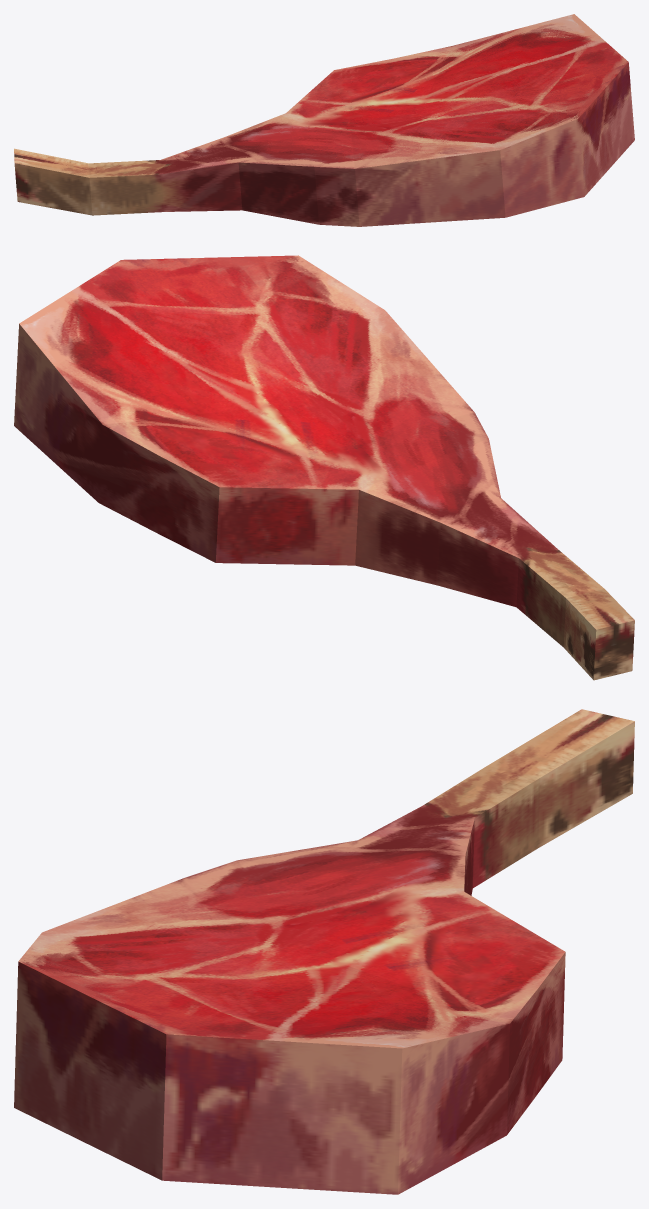
File: 03_meat_piece_02.obj
3 views of the same model, one above another, from view 1: azimuth 30°, elevation 25°; view 2: azimuth 150°, elevation 25°; view 3: azimuth 270°, elevation 25° (orthographic). The views are drawn at different scales.
Visible parts, largest first — view 1: 03_meat_piece_02; view 2: 03_meat_piece_02; view 3: 03_meat_piece_02.
Part boxes in pixels (bbox=[...]): 03_meat_piece_02: bbox=[14, 14, 634, 226]; 03_meat_piece_02: bbox=[14, 255, 634, 680]; 03_meat_piece_02: bbox=[14, 709, 634, 1194].
Bounding box in the file's own units: 2.09 × 0.4219 × 1.21.
1 material, 1 textured.
